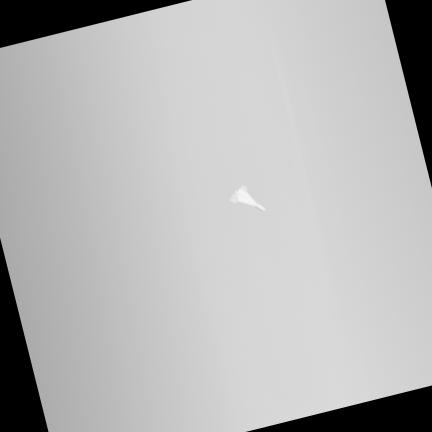Shahed: (229, 186, 264, 210)
